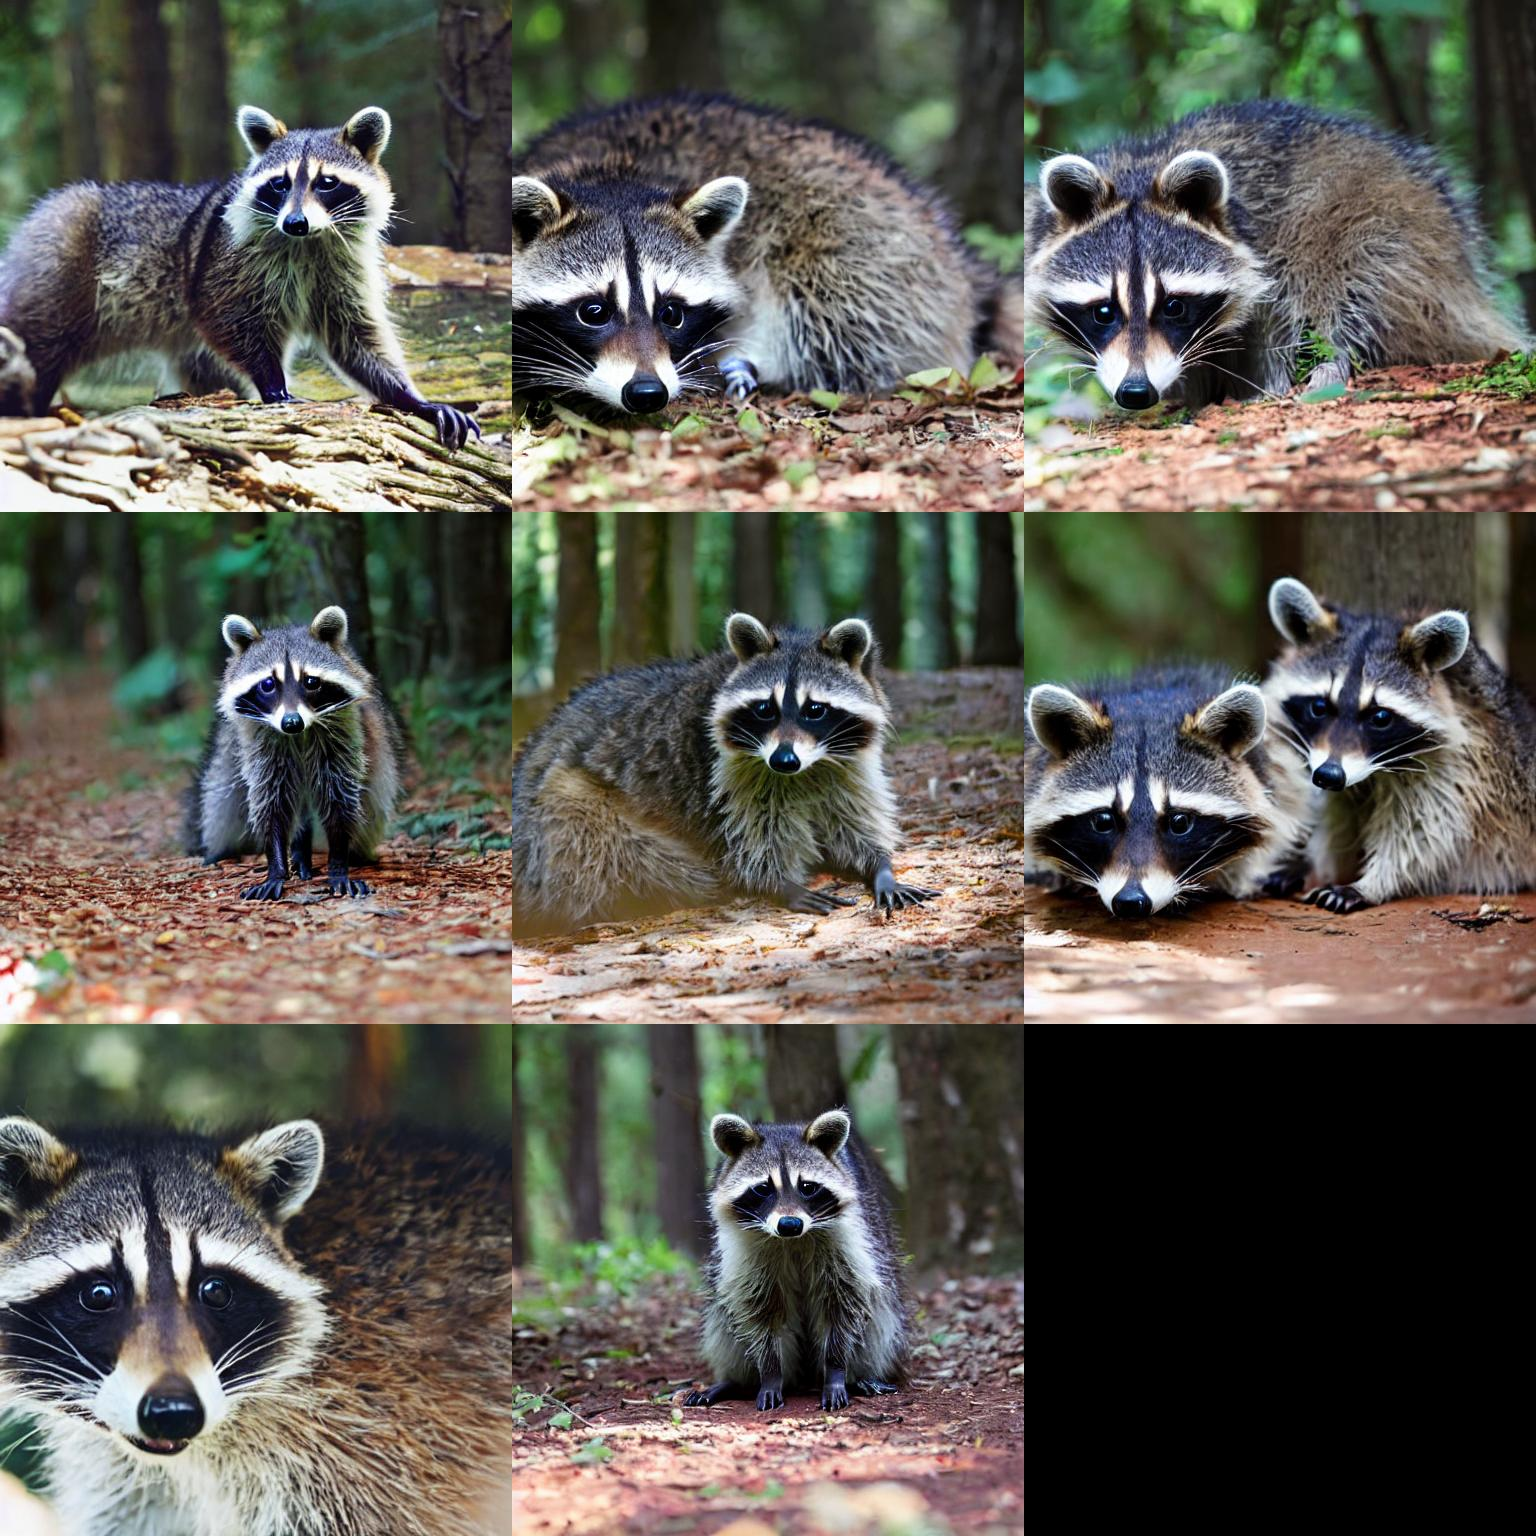raccoon: (0, 1103, 515, 1536), (0, 97, 489, 447), (1030, 84, 1536, 418), (515, 93, 1000, 435), (512, 605, 910, 940), (1263, 567, 1536, 916), (1030, 630, 1310, 930), (685, 1106, 926, 1412), (183, 601, 408, 903)
